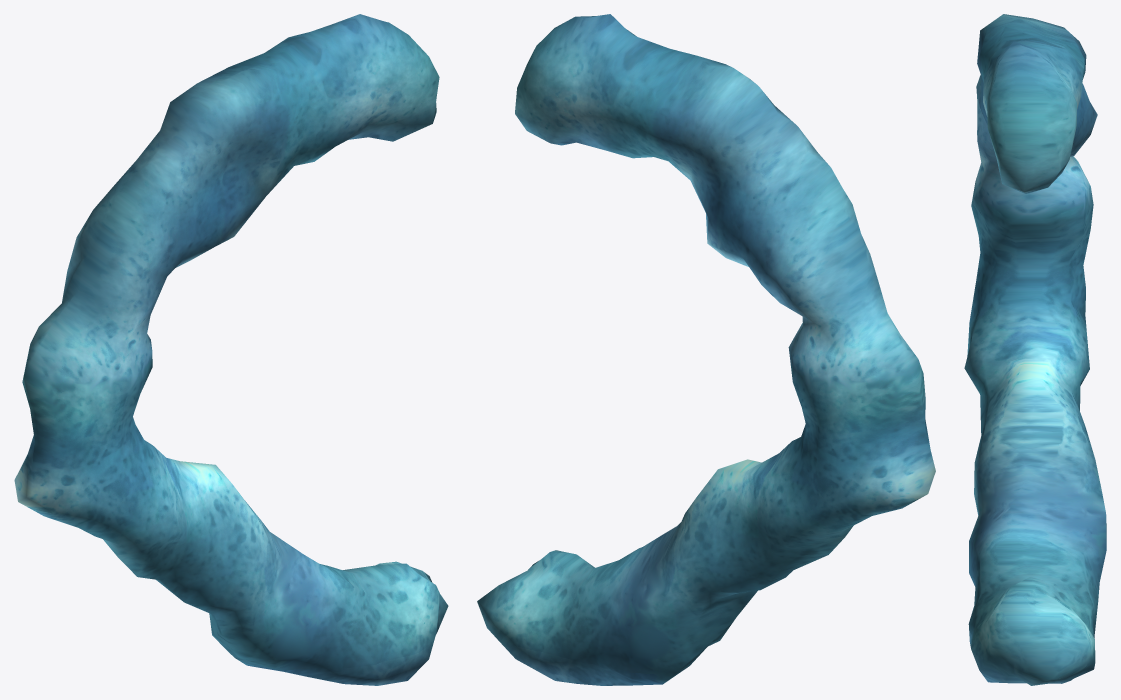
3 views of the same model, side by side, from view 1: azimuth 30°, elevation 25°; view 2: azimuth 150°, elevation 25°; view 3: azimuth 270°, elevation 25° (orthographic). The views are drawn at different scales.
Parts seen in each view (by area): view 1: obj2; view 2: obj2; view 3: obj2.
Part boxes in pixels (left/top/right/bottom): obj2: left=14, top=14, right=448, bottom=685; obj2: left=477, top=14, right=935, bottom=685; obj2: left=964, top=14, right=1106, bottom=685.
Bounding box in the file's own units: 293 × 425 × 87.19.
1 material, 1 textured.
